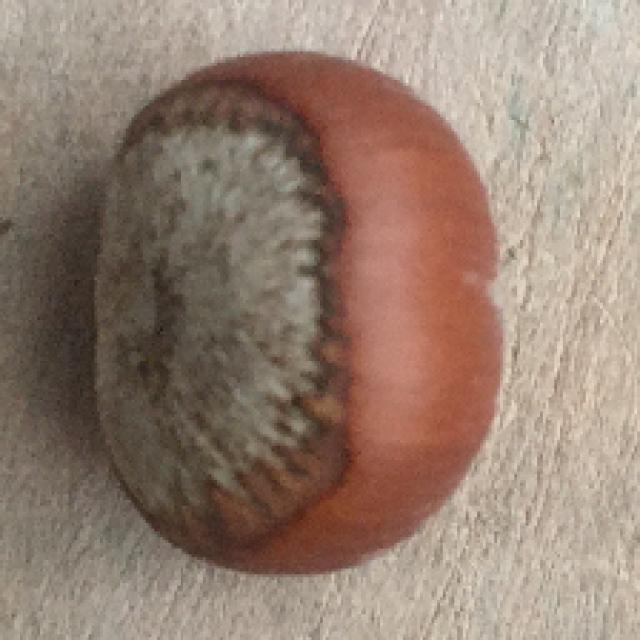qualityHazelnut: (79, 40, 509, 584)
